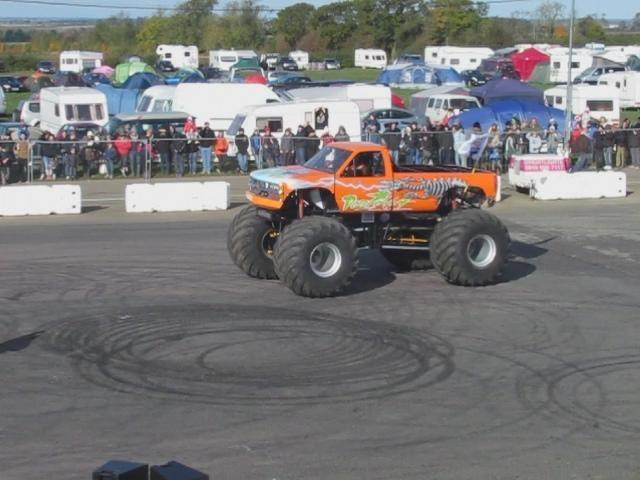car: (101, 111, 194, 133), (360, 108, 430, 131), (426, 95, 480, 124), (0, 122, 30, 167), (134, 84, 178, 113), (260, 72, 312, 89), (56, 123, 101, 142), (12, 100, 40, 128), (82, 72, 112, 87), (4, 78, 23, 91), (323, 58, 341, 70), (282, 59, 298, 70)
truck: (227, 140, 510, 296), (226, 100, 361, 156), (171, 81, 302, 136), (36, 86, 113, 141), (156, 44, 200, 72), (60, 51, 104, 74), (354, 48, 388, 70), (288, 50, 308, 70)
